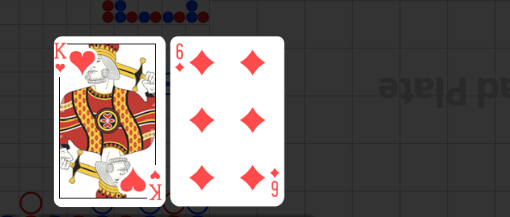6D: (174, 42, 186, 74)
KH: (54, 41, 67, 74)
